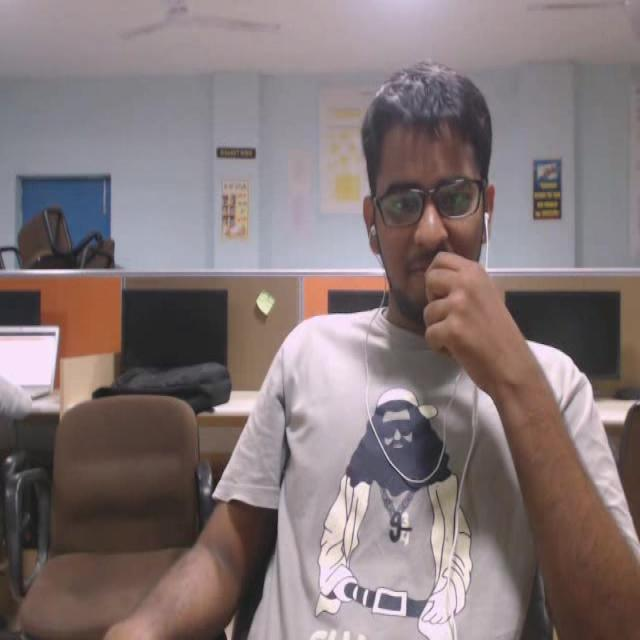Bored: (343, 51, 514, 360)
